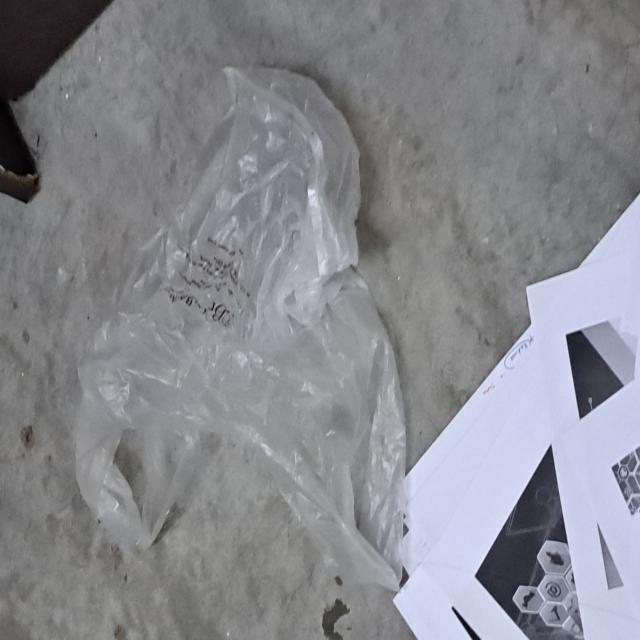paper: (390, 185, 640, 640)
plastic bag: (74, 62, 407, 588)
